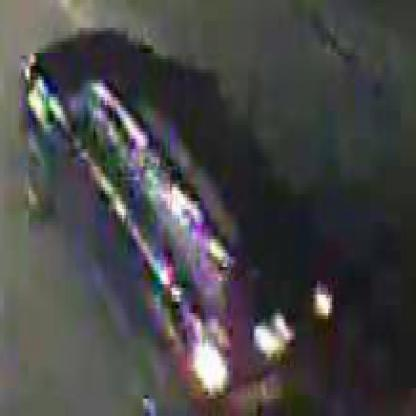car: (28, 53, 329, 403)
